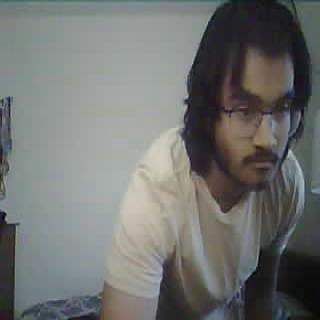Yellow T-Shirt: (114, 171, 308, 320)
